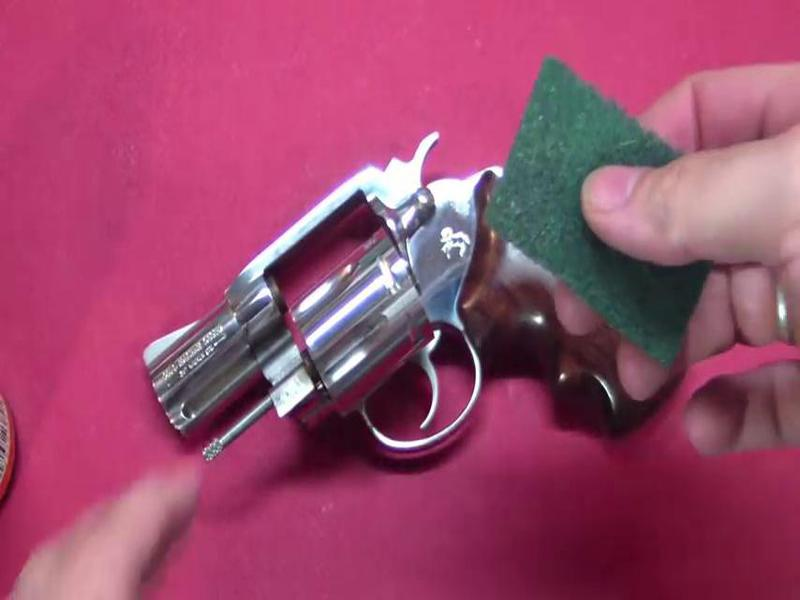Revolver: (140, 146, 655, 470)
